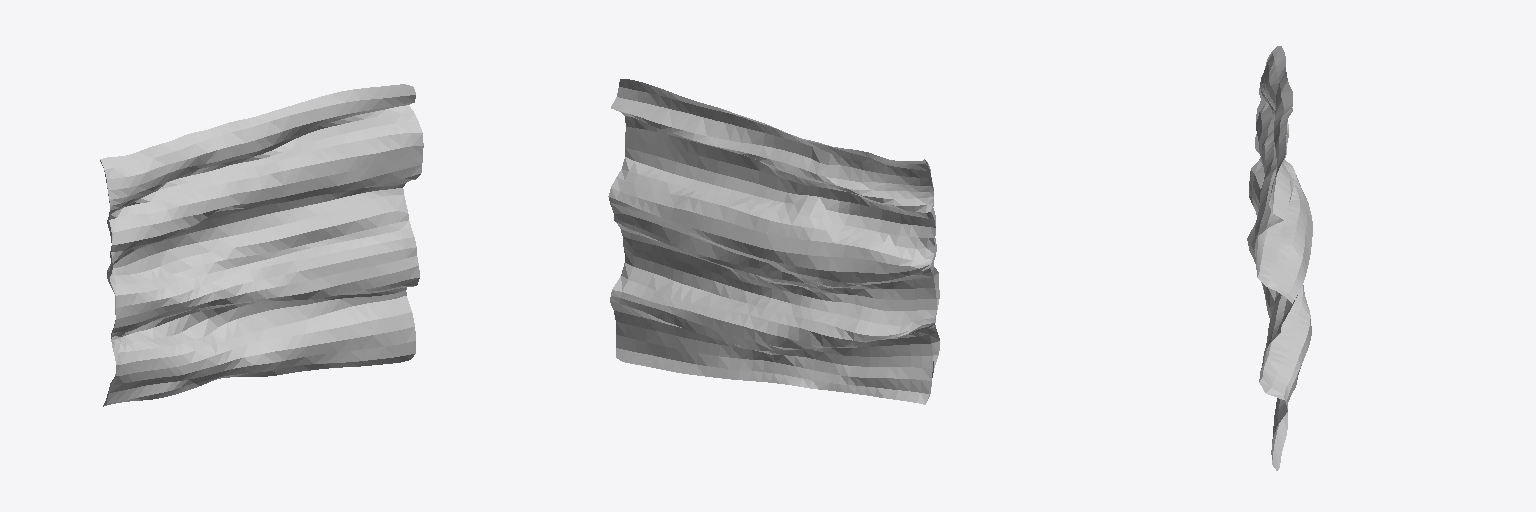
The model's file is SM_Curtain_02_Lowpoly_02.OBJ.
The picture shows the model from 3 angles: view 1: azimuth 30°, elevation 25°; view 2: azimuth 150°, elevation 25°; view 3: azimuth 270°, elevation 25°; orthographic projection.
Parts seen in each view (by area): view 1: Group20824; view 2: Group20824; view 3: Group20824.
Boxes of the visible parts, box(x1,y1,x2,y2) form: Group20824: box(100, 84, 423, 406); Group20824: box(608, 79, 939, 404); Group20824: box(1247, 46, 1312, 470).
Bounding box in the file's own units: 2.59 × 2.25 × 0.4749.